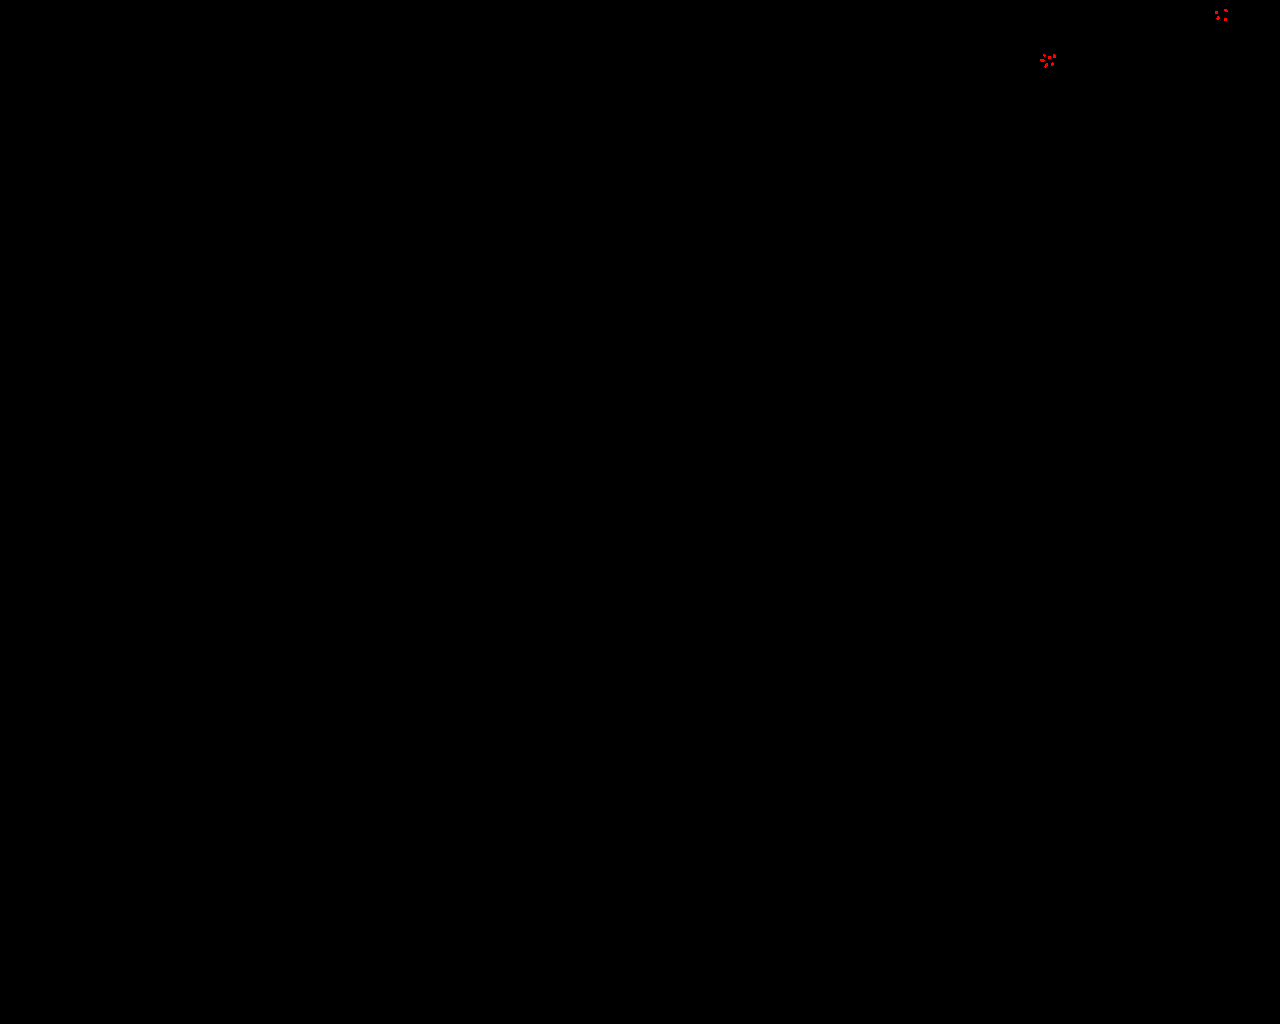Target: (1044, 63, 1048, 68), (1216, 16, 1220, 20), (1040, 59, 1045, 62), (1053, 54, 1056, 59), (1051, 62, 1054, 66), (1224, 18, 1227, 21), (1043, 54, 1046, 57), (1224, 9, 1228, 11), (1215, 11, 1218, 14), (1048, 56, 1051, 59)
